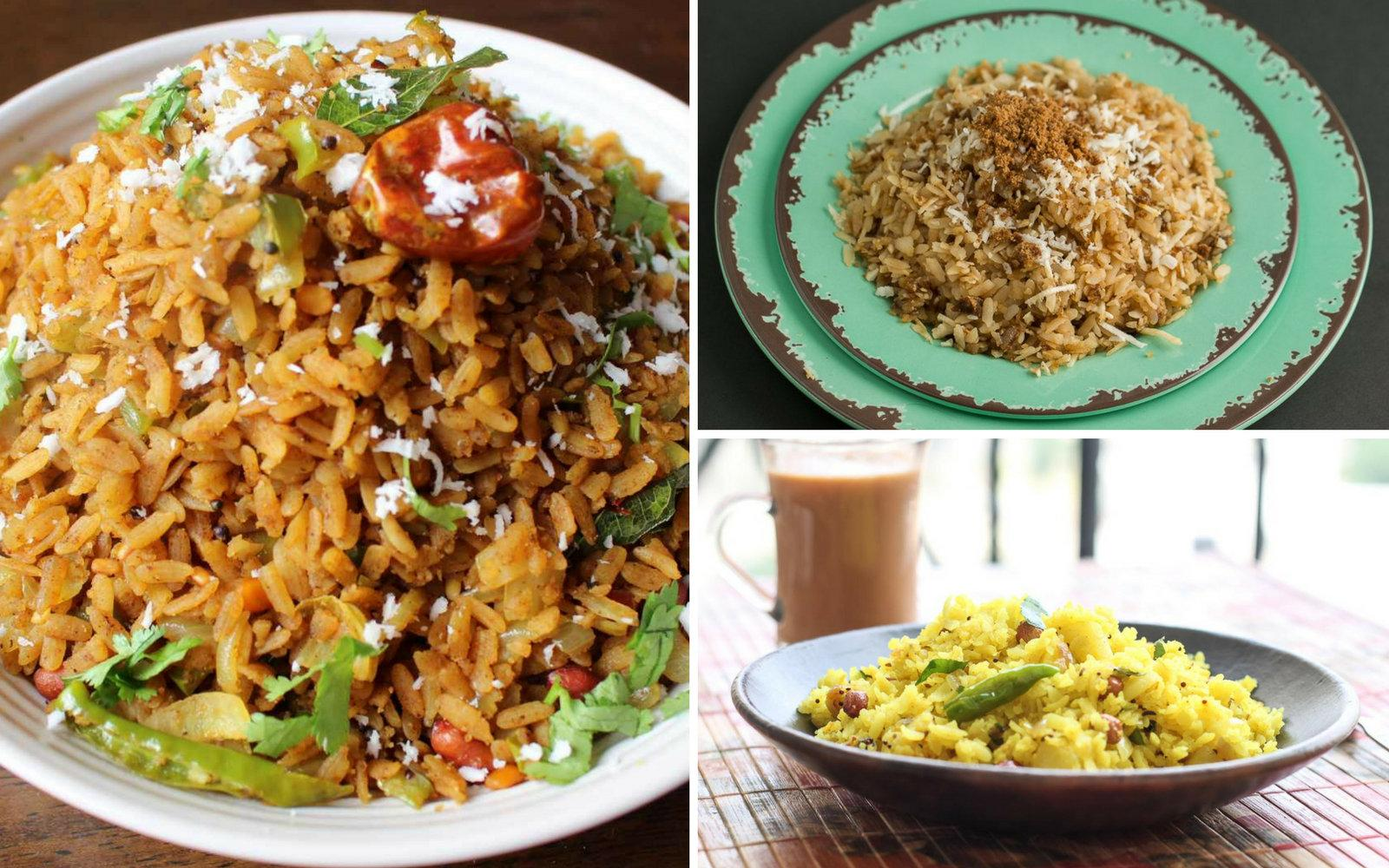poha: (14, 38, 683, 754), (834, 70, 1249, 356), (808, 582, 1304, 789)
